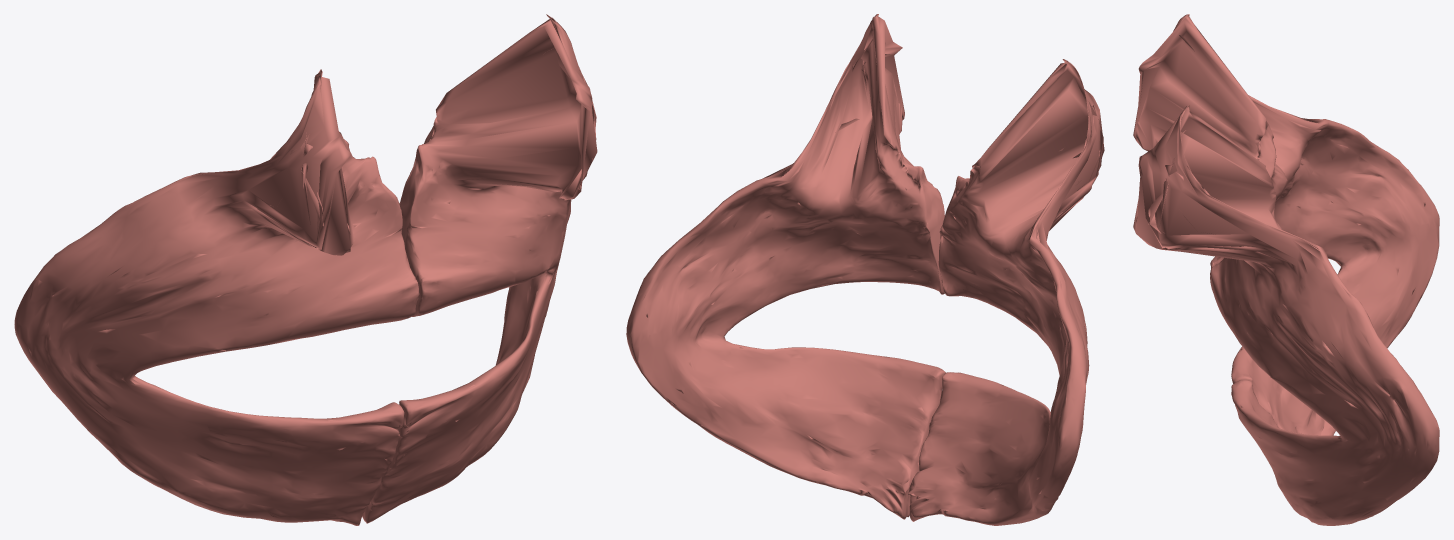
File: orbicularis_oris.glb
3 renders of one model, left to right at view 1: azimuth 30°, elevation 25°; view 2: azimuth 150°, elevation 25°; view 3: azimuth 270°, elevation 25°, orthographic. The views are drawn at different scales.
Visible parts, largest first — view 1: orbicularis_oris_R, orbicularis_oris_L; view 2: orbicularis_oris_L, orbicularis_oris_R; view 3: orbicularis_oris_L, orbicularis_oris_R.
Boxes of the visible parts, left/top/right/bottom form: orbicularis_oris_R: left=14, top=69, right=419, bottom=525; orbicularis_oris_L: left=362, top=14, right=597, bottom=523; orbicularis_oris_L: left=626, top=14, right=945, bottom=519; orbicularis_oris_R: left=908, top=59, right=1104, bottom=525; orbicularis_oris_L: left=1133, top=105, right=1439, bottom=525; orbicularis_oris_R: left=1133, top=14, right=1439, bottom=435.
Size of the model in its own units: 0.064 by 0.0596 by 0.0373.
